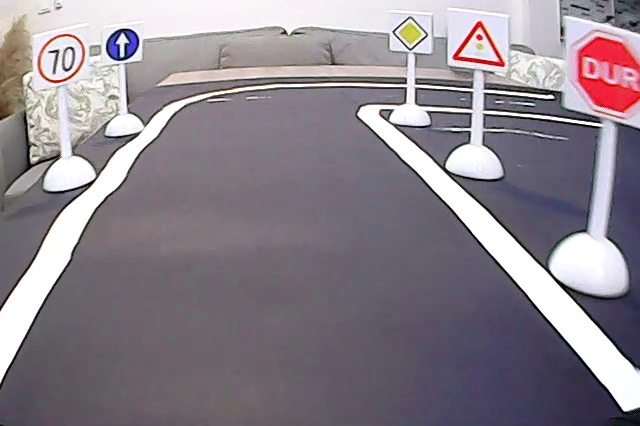red light: (449, 12, 508, 68)
speed limit 70: (34, 35, 87, 85)
stop sign: (565, 22, 640, 124)
